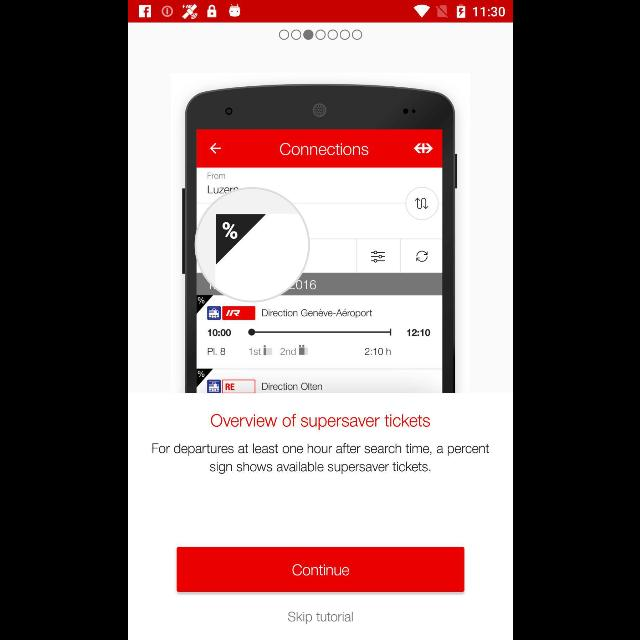image: (182, 84, 456, 394)
pageindicator: (278, 30, 362, 40)
text: (152, 443, 488, 475), (210, 414, 430, 431), (288, 612, 352, 624)
textbutton: (176, 548, 464, 592)
uppertaskbar: (128, 1, 512, 23)
